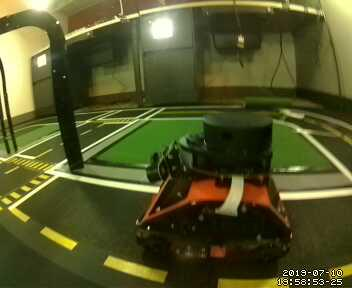pheeno: (136, 111, 296, 262)
